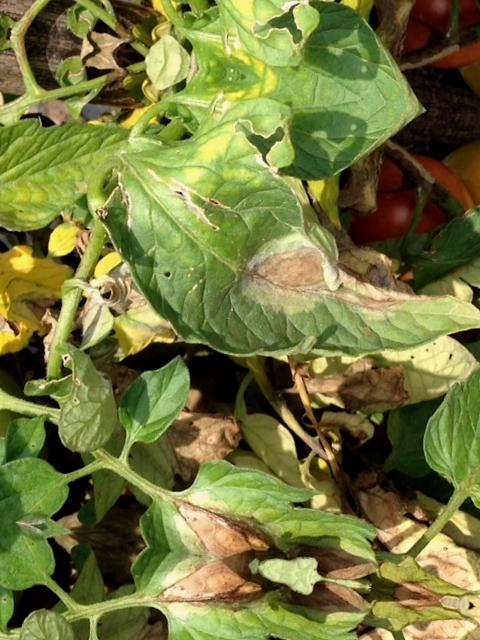Tomato leaf late blight: (57, 111, 480, 393), (124, 452, 387, 587), (0, 91, 146, 270), (409, 281, 480, 536)
